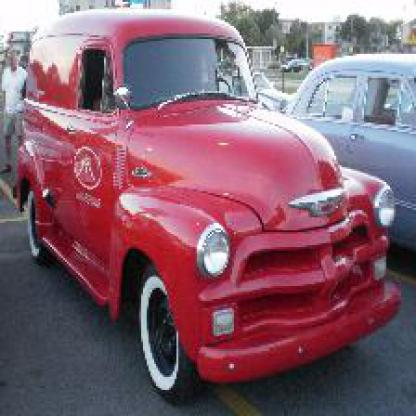not_emergency: (2, 19, 407, 394)
